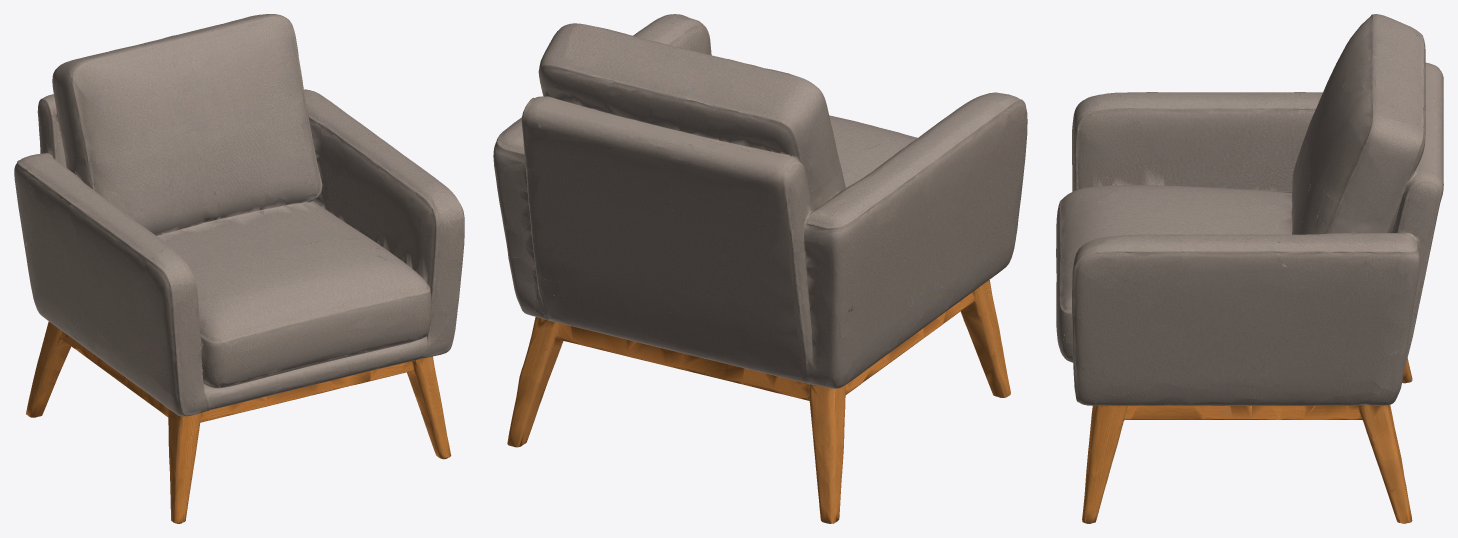
The model's file is armchair-beige-original.glb.
3 views of the same model, side by side, from view 1: azimuth 30°, elevation 25°; view 2: azimuth 150°, elevation 25°; view 3: azimuth 270°, elevation 25° (orthographic). The views are drawn at different scales.
Visible parts, largest first — view 1: Mesh_0; view 2: Mesh_0; view 3: Mesh_0.
Part boxes in pixels (bbox=[...]): Mesh_0: bbox=[14, 14, 464, 523]; Mesh_0: bbox=[493, 14, 1027, 523]; Mesh_0: bbox=[1056, 14, 1443, 523].
Bounding box in the file's own units: 0.7564 × 0.85 × 0.7704.
1 material, 1 textured.
